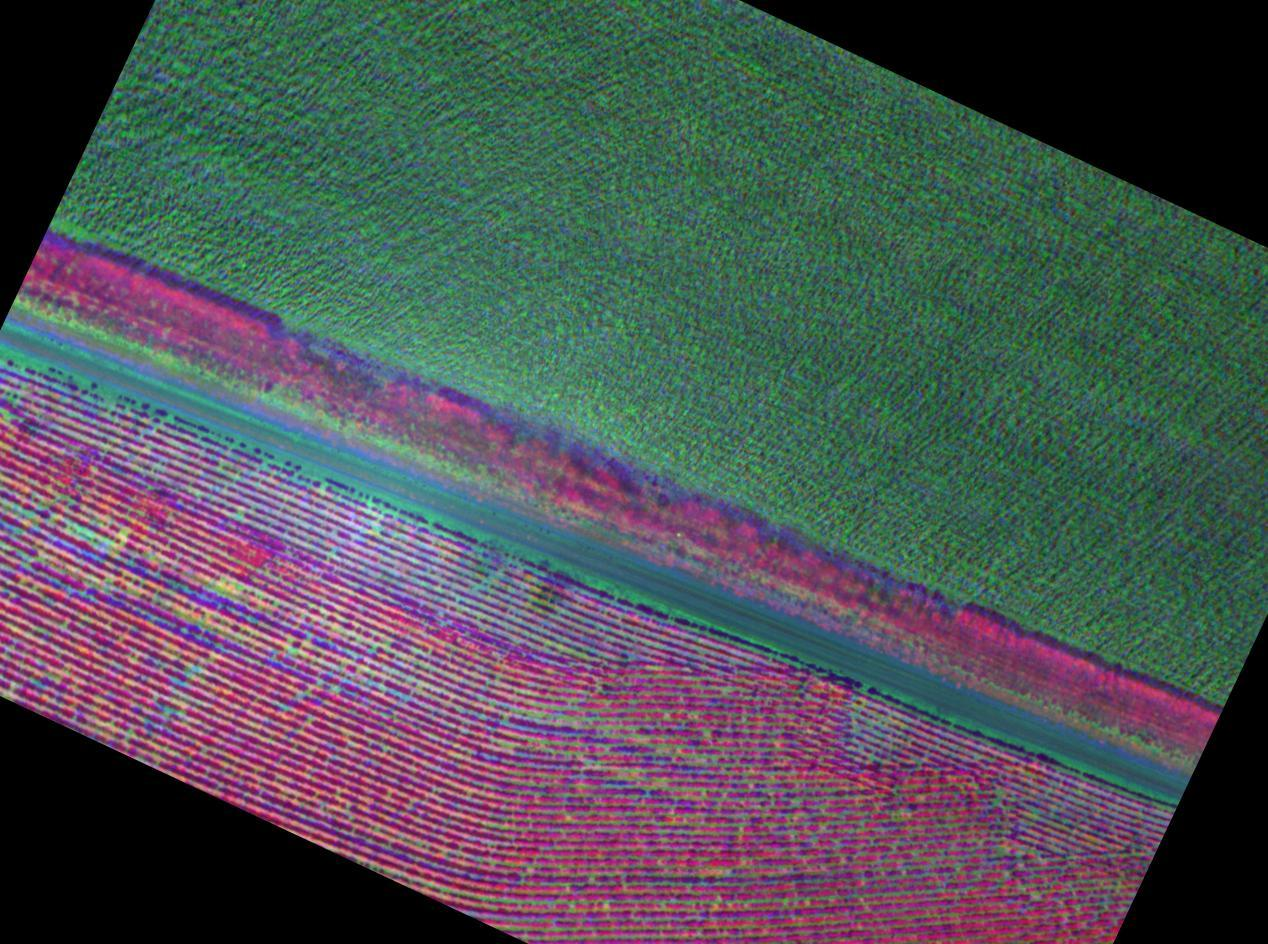dc: (218, 582, 228, 594), (102, 542, 113, 550), (892, 811, 898, 820), (999, 847, 1006, 854)
